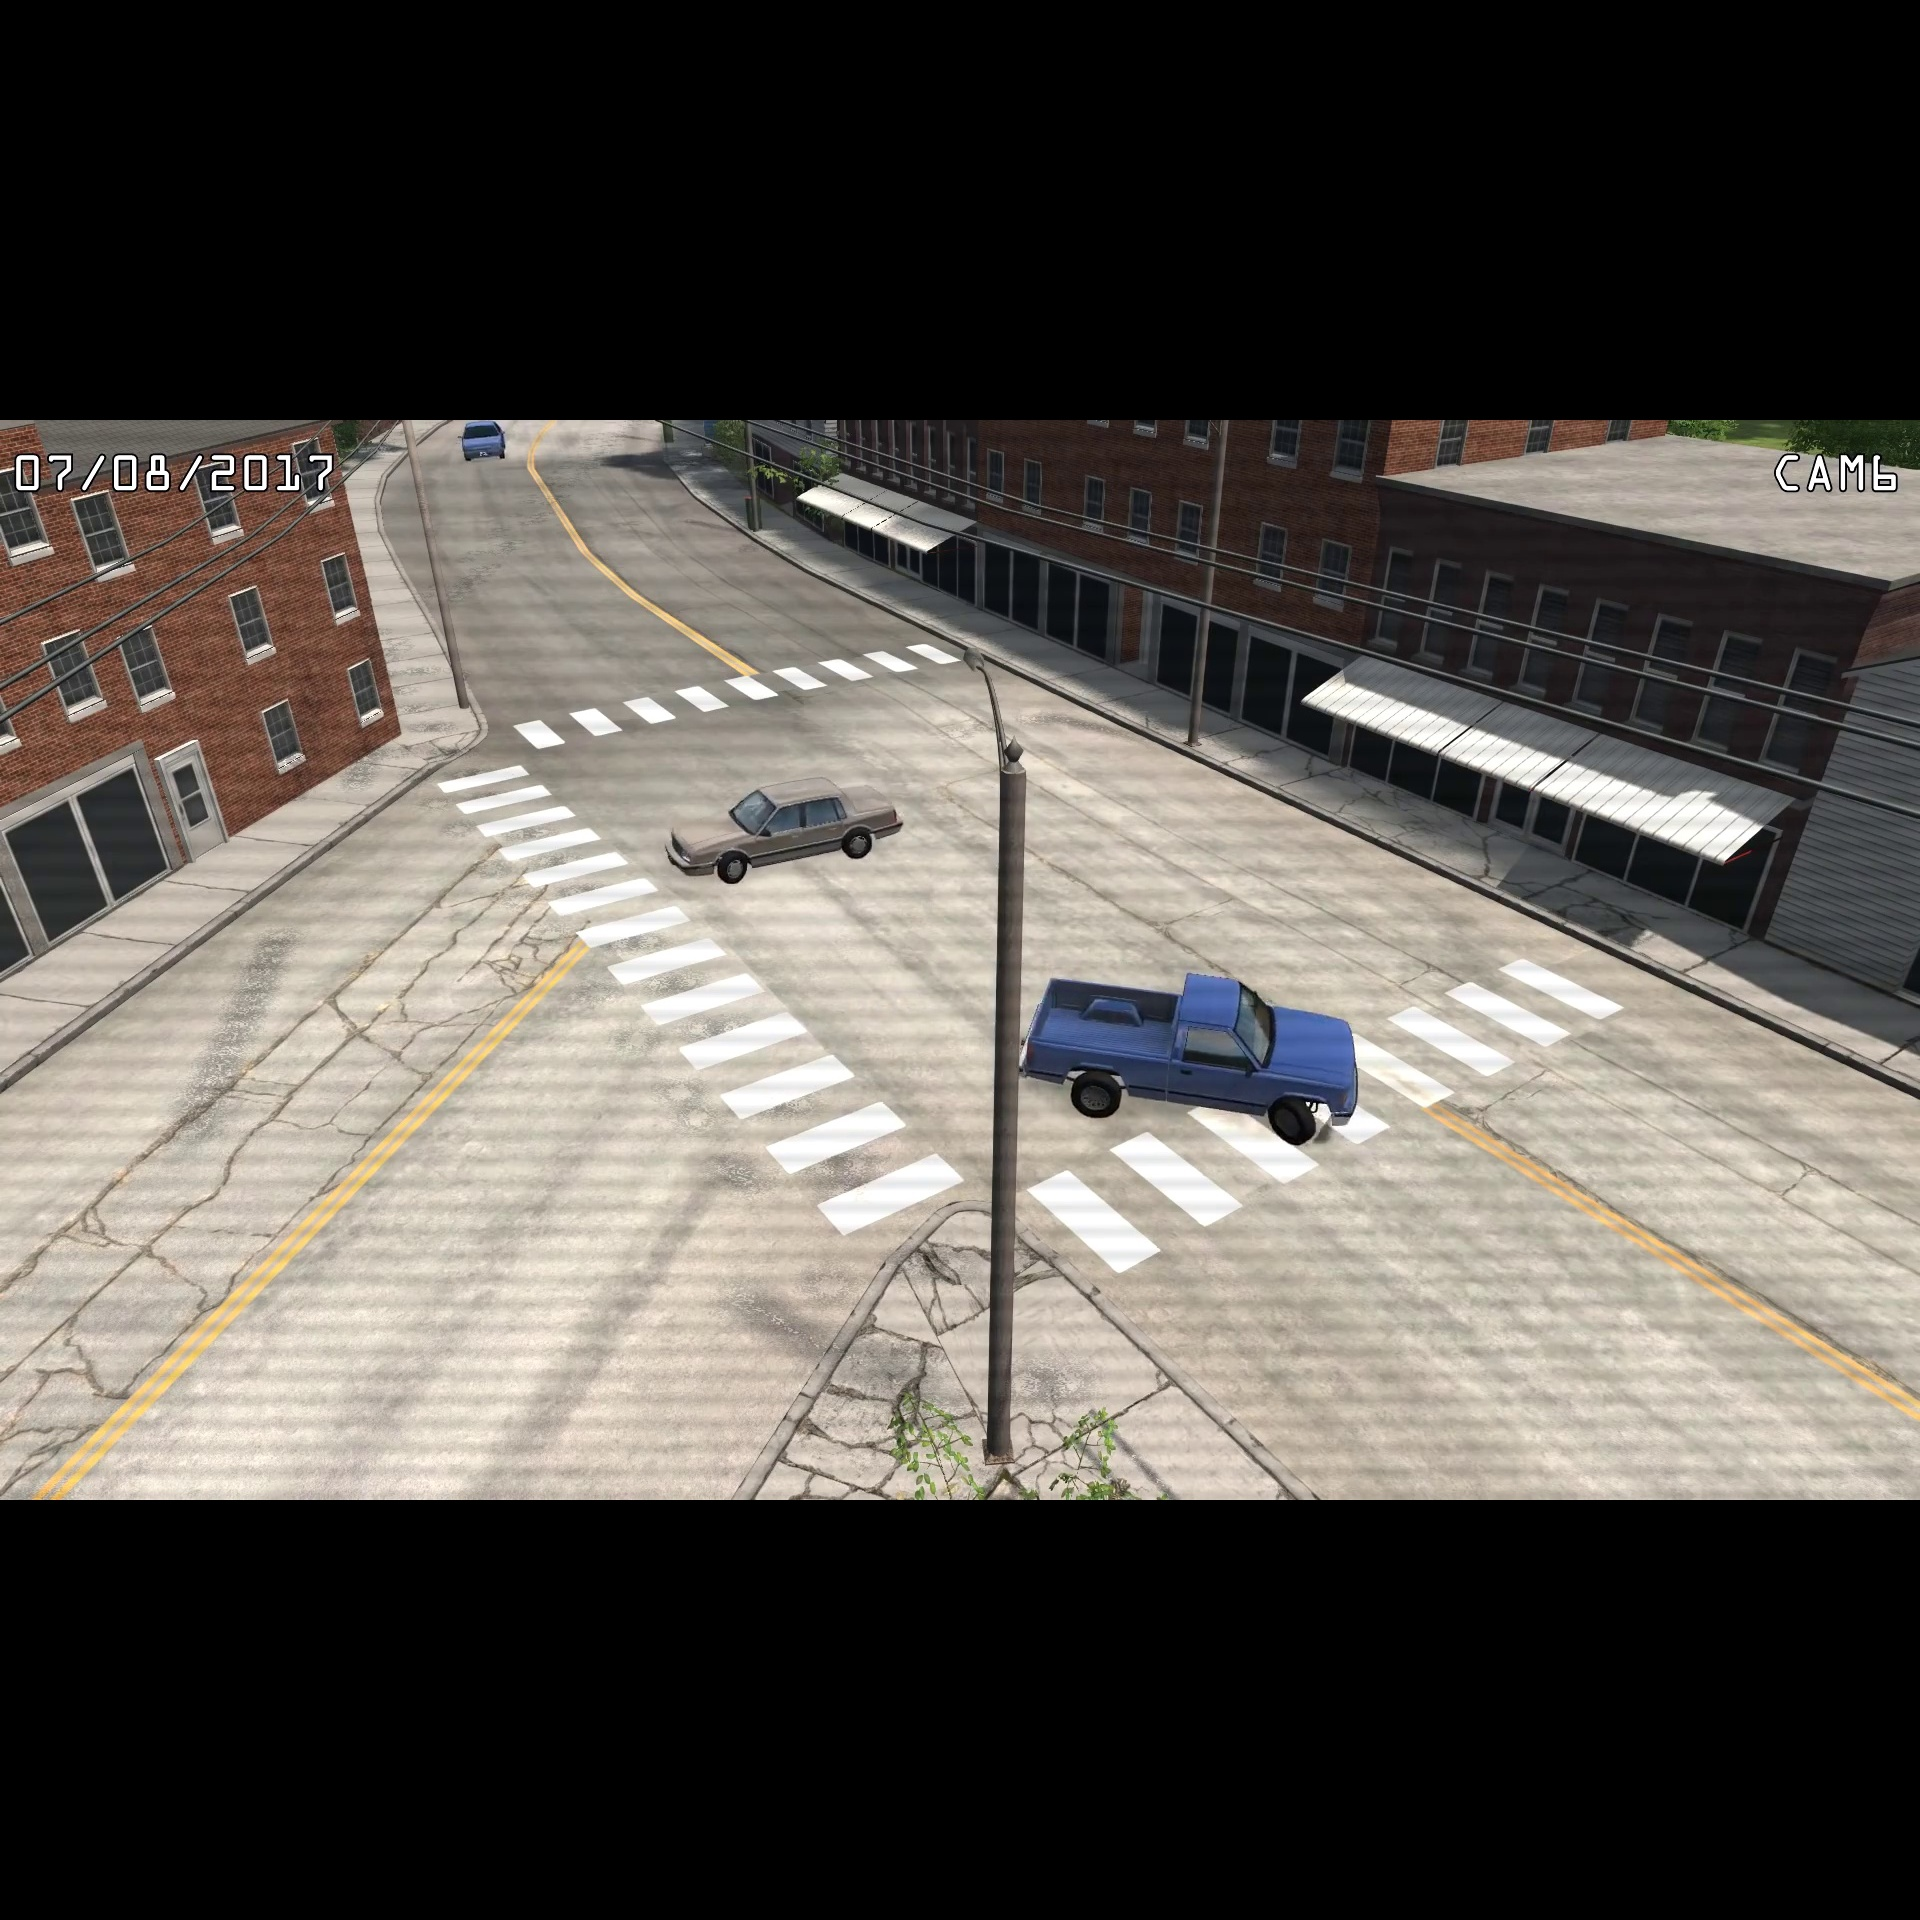vehicle: (1016, 964, 1373, 1153), (658, 772, 909, 888), (455, 418, 515, 468)
